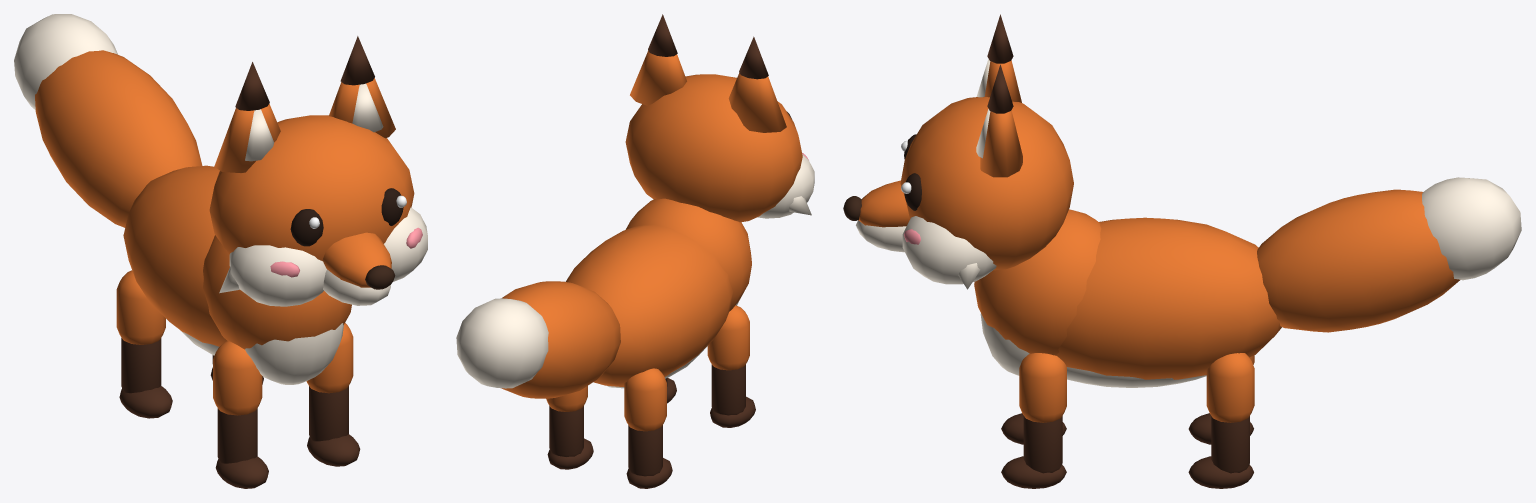
The model's file is fox.glb.
3 renders of one model, left to right at view 1: azimuth 30°, elevation 25°; view 2: azimuth 150°, elevation 25°; view 3: azimuth 270°, elevation 25°, orthographic. The views are drawn at different scales.
Visible parts, largest first — view 1: Fox_Head, Fox_Tail, Fox_Body, Fox_Leg_FL, Fox_Leg_BL, Fox_Leg_FR, Fox_Ear_L, Fox_Ear_R; view 2: Fox_Body, Fox_Head, Fox_Tail, Fox_Leg_BL, Fox_Leg_FL, Fox_Ear_L, Fox_Leg_BR, Fox_Ear_R; view 3: Fox_Body, Fox_Tail, Fox_Head, Fox_Leg_FR, Fox_Leg_BR, Fox_Ear_R, Fox_Ear_L.
Boxes of the visible parts, box(x1,y1,x2,y2) form: Fox_Head: box(209, 115, 427, 306); Fox_Tail: box(14, 14, 202, 227); Fox_Body: box(123, 165, 351, 384); Fox_Leg_FL: box(213, 341, 268, 488); Fox_Leg_BL: box(116, 270, 172, 418); Fox_Leg_FR: box(306, 323, 360, 466); Fox_Ear_L: box(214, 62, 280, 172); Fox_Ear_R: box(329, 36, 395, 138); Fox_Body: box(565, 198, 751, 388); Fox_Head: box(625, 74, 814, 222); Fox_Tail: box(456, 281, 620, 398); Fox_Leg_BL: box(624, 368, 672, 488); Fox_Leg_FL: box(707, 305, 755, 427); Fox_Ear_L: box(728, 36, 786, 132); Fox_Leg_BR: box(546, 386, 593, 469); Fox_Ear_R: box(630, 14, 686, 105); Fox_Body: box(974, 209, 1281, 387); Fox_Tail: box(1257, 177, 1521, 332); Fox_Head: box(843, 97, 1073, 289); Fox_Leg_FR: box(1001, 353, 1066, 488); Fox_Leg_BR: box(1188, 353, 1254, 488); Fox_Ear_R: box(976, 64, 1022, 177); Fox_Ear_L: box(976, 14, 1021, 102).
Size of the model in its own units: 0.3521 by 0.7135 by 1.03.
